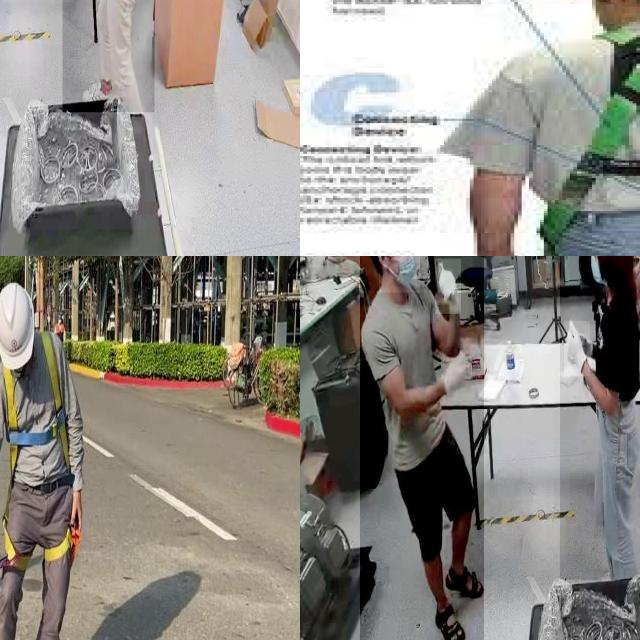Harness: (534, 28, 640, 256), (2, 332, 71, 480), (0, 530, 81, 572), (5, 535, 16, 552)
face_mask: (379, 256, 420, 292)
hand_glove: (435, 348, 477, 393), (435, 259, 461, 314), (564, 321, 590, 376)
hand_noglove: (633, 261, 640, 277)
person: (359, 256, 484, 640), (560, 256, 640, 580), (62, 0, 155, 113)
